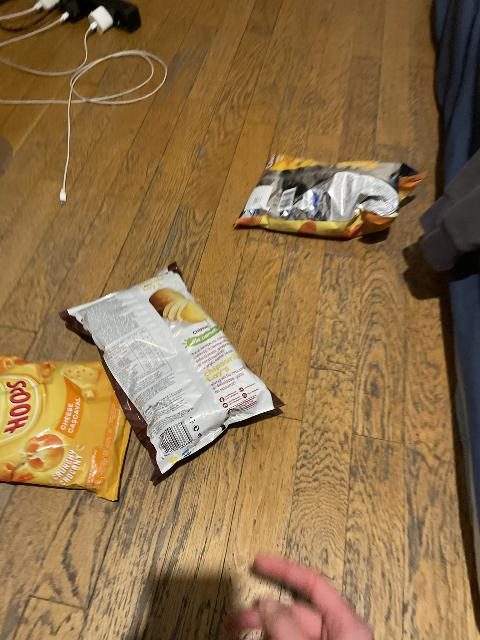Chio Cascaval 125g: (228, 153, 411, 238)
Chio Hula Hoops Cheese 70g: (1, 351, 133, 496)
Lays Beef Grilled Ribs 125g: (67, 261, 288, 479)
